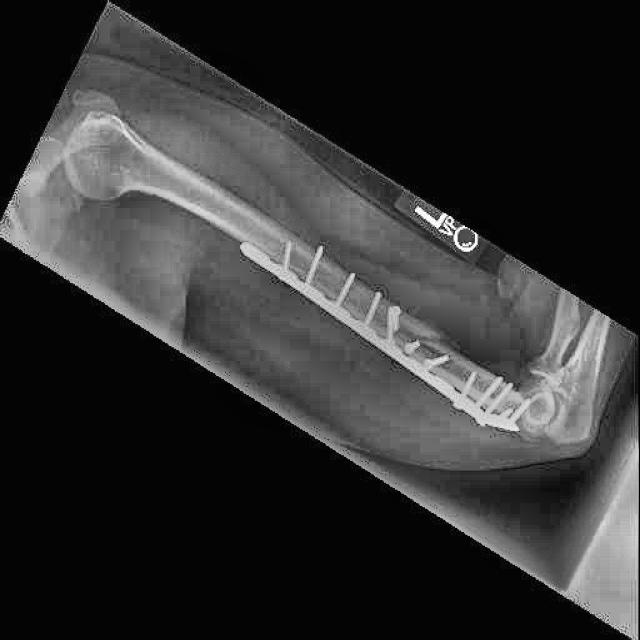humerus: (391, 291, 474, 374)
